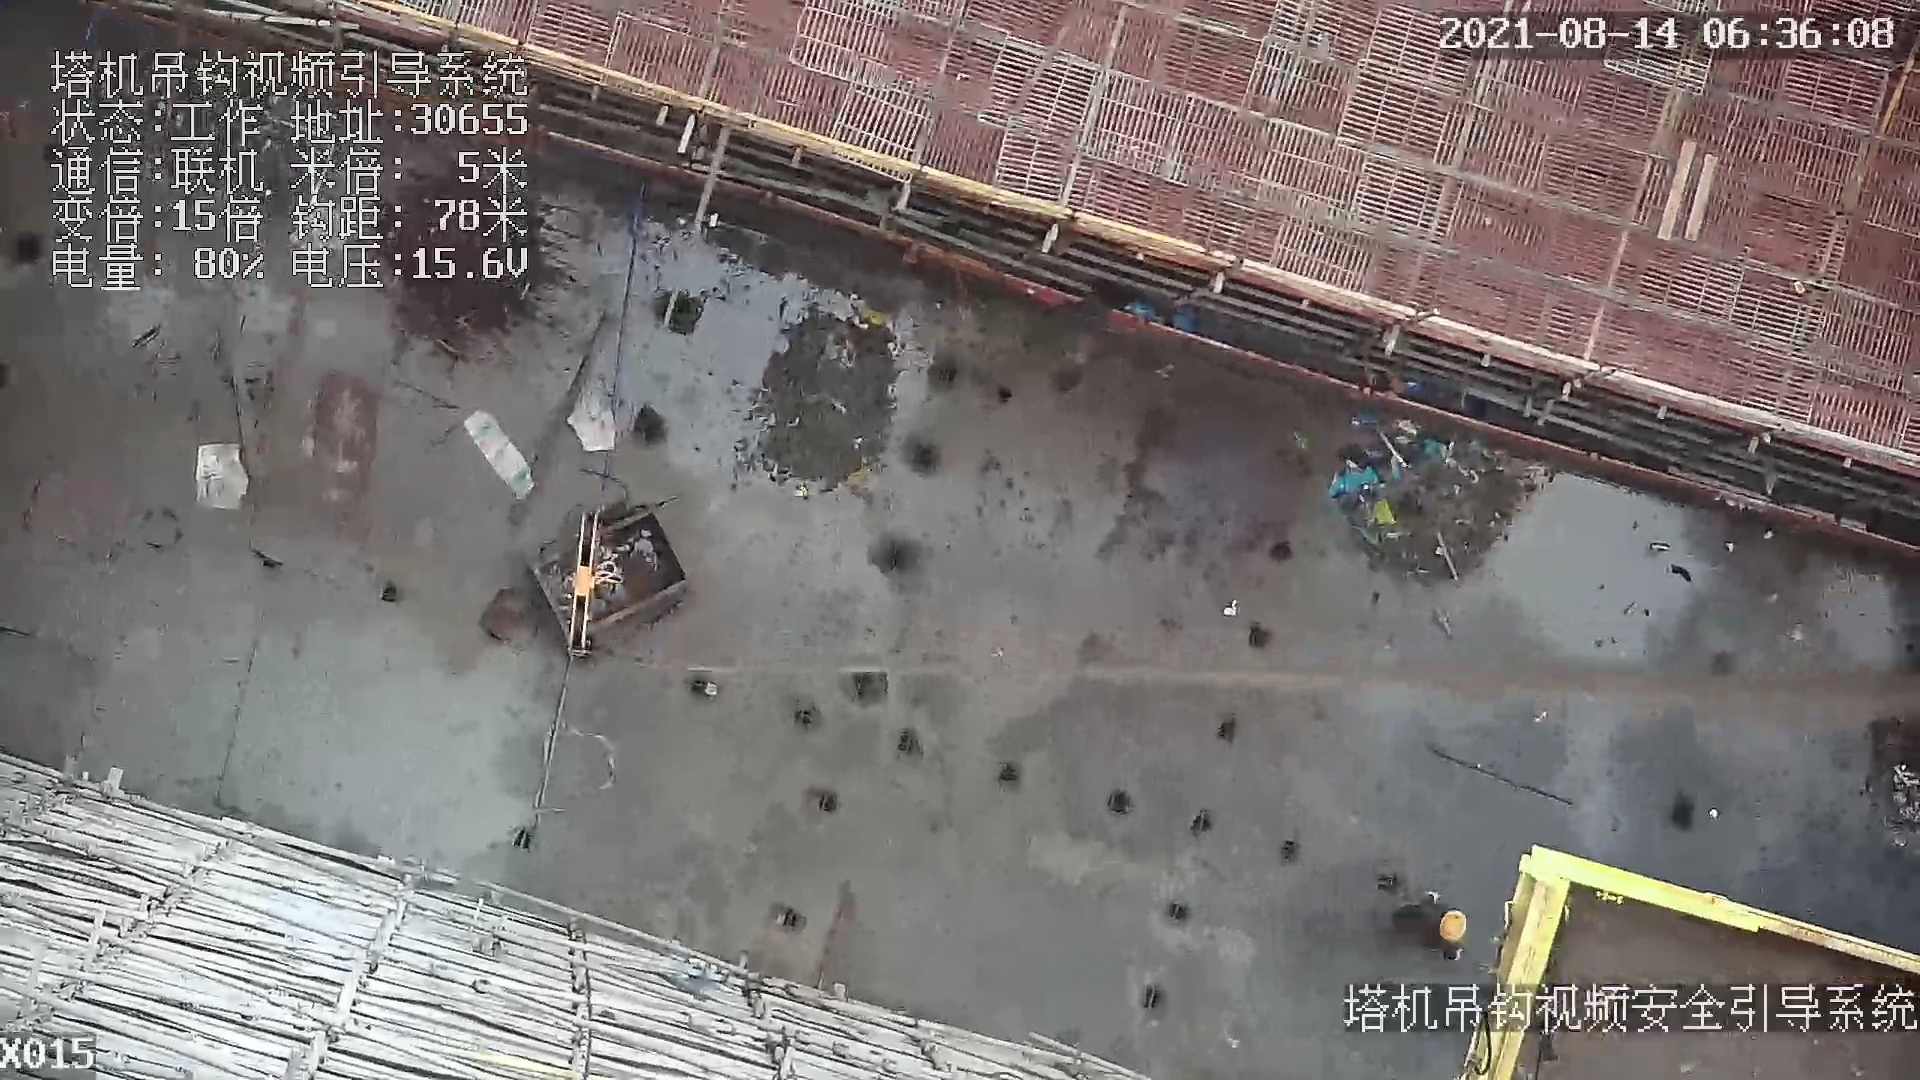helmet: (1438, 910, 1469, 942)
hook: (565, 510, 620, 655)
hopper: (526, 496, 705, 663)
person: (1392, 885, 1487, 972)
